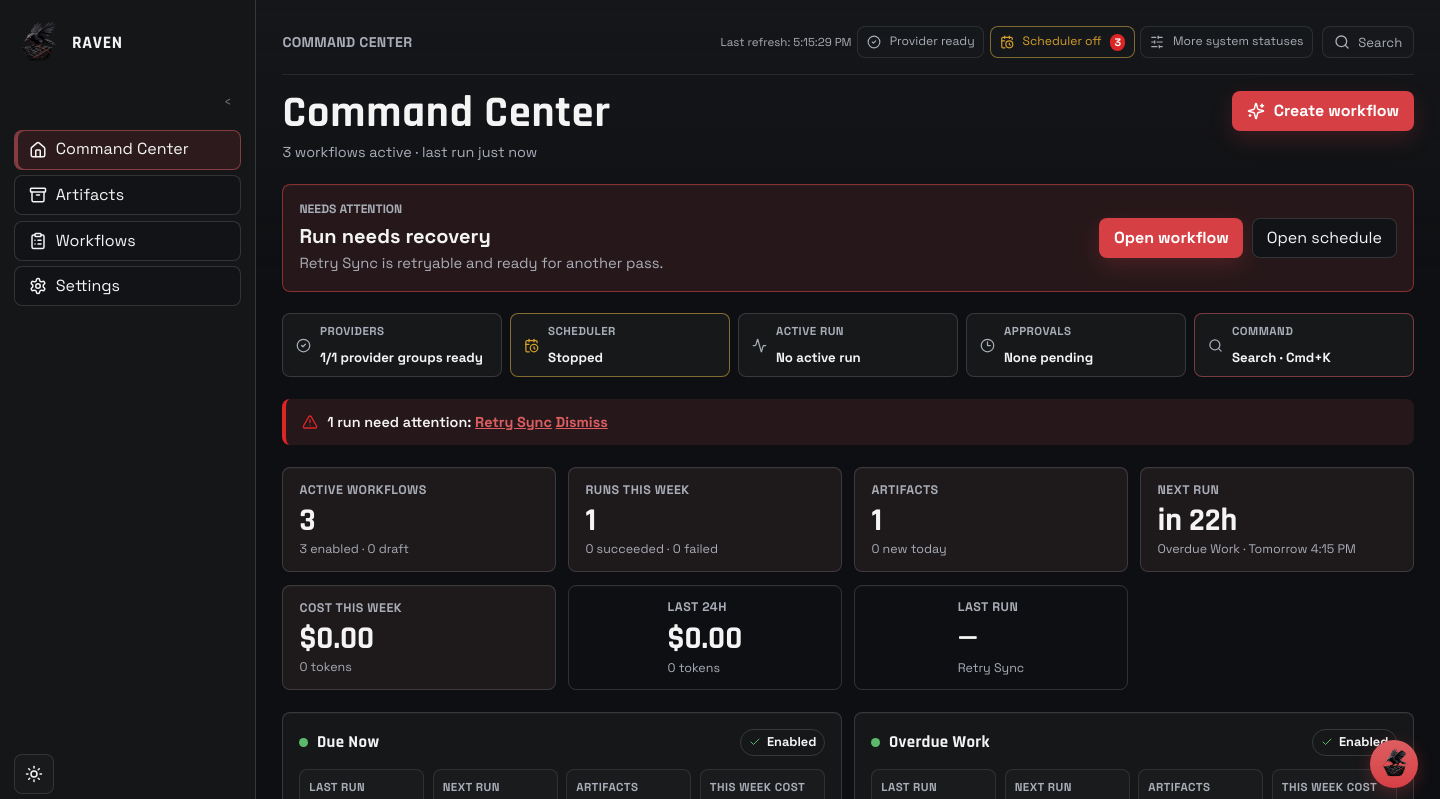
Scenario: Raven app shell › splits due now, overdue, and retryable scheduler attention in top status
Step 1. Click the button with aria-label "scheduler status" → (1062, 42), box [990,26,1135,58]
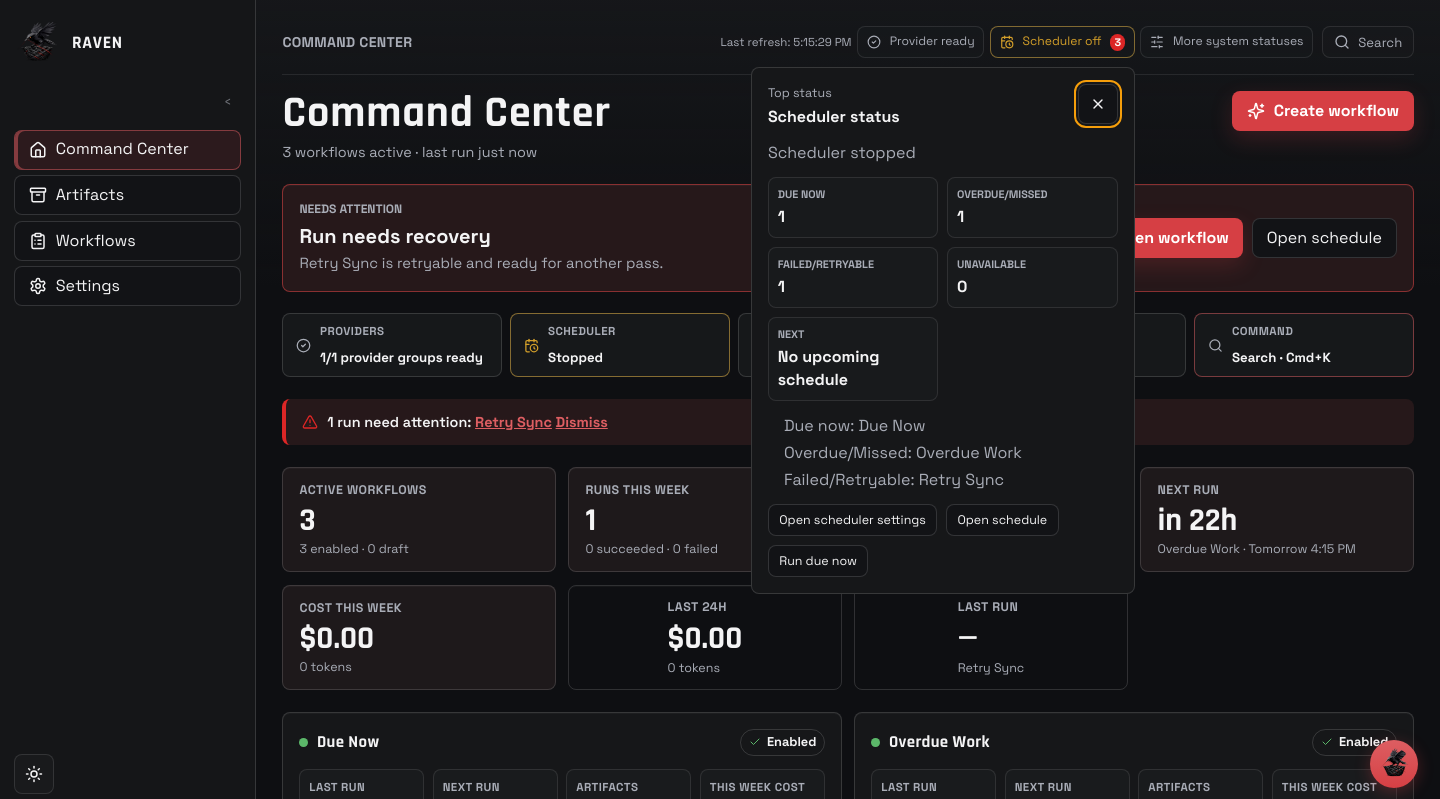
Now the text "Overdue/Missed" is shown, box [957,187,1048,201]
Now the text "Failed/Retryable" is shown, box [778,257,874,271]
Now the dialog named "Scheduler status details" shows "Due now", box [778,187,825,201]
Step 2. Click the button "Run due now" → (818, 561), box [768,545,868,577]
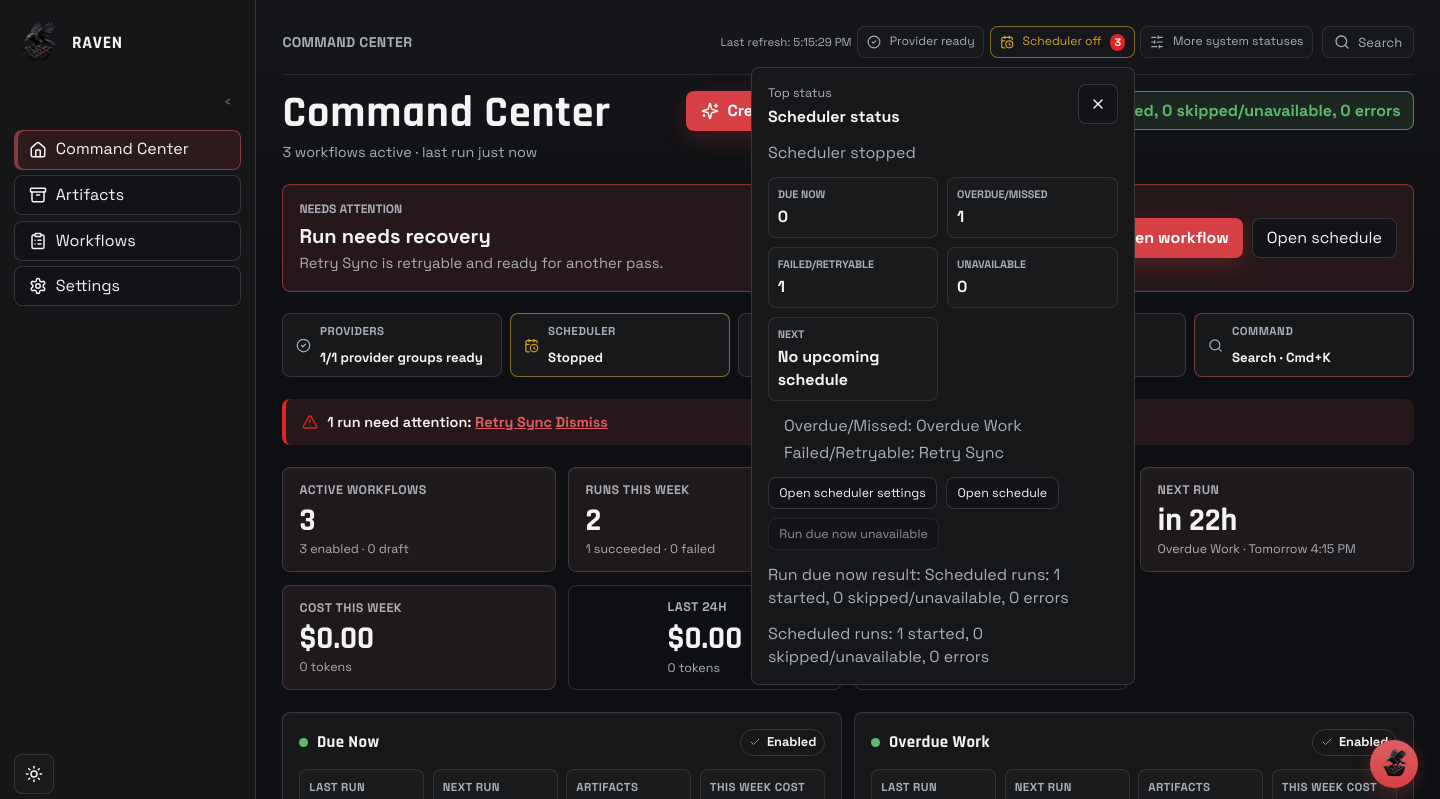
Now the text "Run due now result: Scheduled runs: 1 started, 0 skipped/unavailable, 0 errors" is shown, box [768,563,1118,609]
